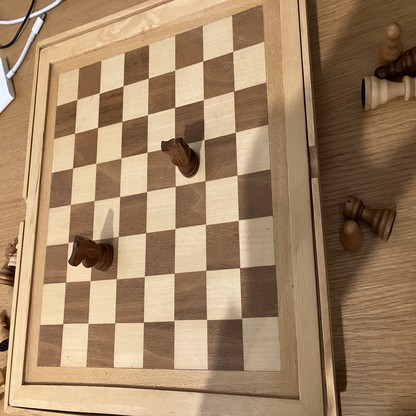knight_black: (68, 235, 112, 271), (161, 140, 200, 177)
pawn_black: (376, 49, 416, 80)
pawn_white: (382, 22, 402, 59), (342, 222, 360, 248)
rock_black: (345, 195, 394, 239), (0, 243, 16, 286)
